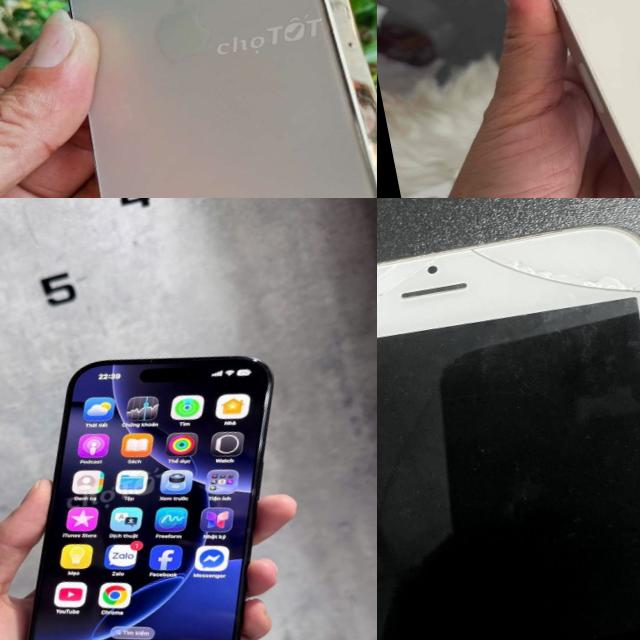gen_12_13: (10, 0, 377, 198), (505, 0, 640, 198)
gen_16: (0, 325, 338, 640)
gen_7_8: (377, 208, 640, 640)
physical_damage: (468, 213, 640, 327), (377, 253, 455, 343)
